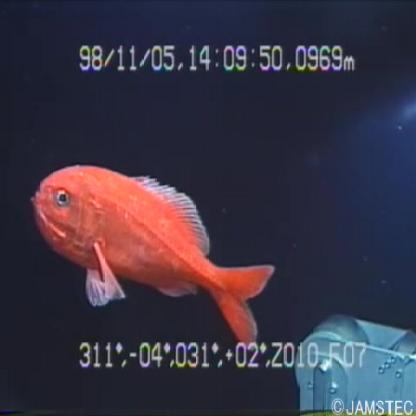Bio: (28, 157, 278, 356)
Rov: (290, 305, 416, 413)
